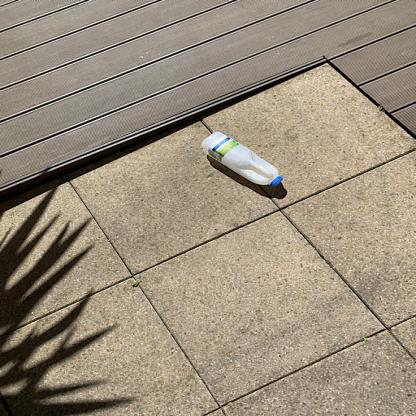trash: (200, 132, 288, 190)
